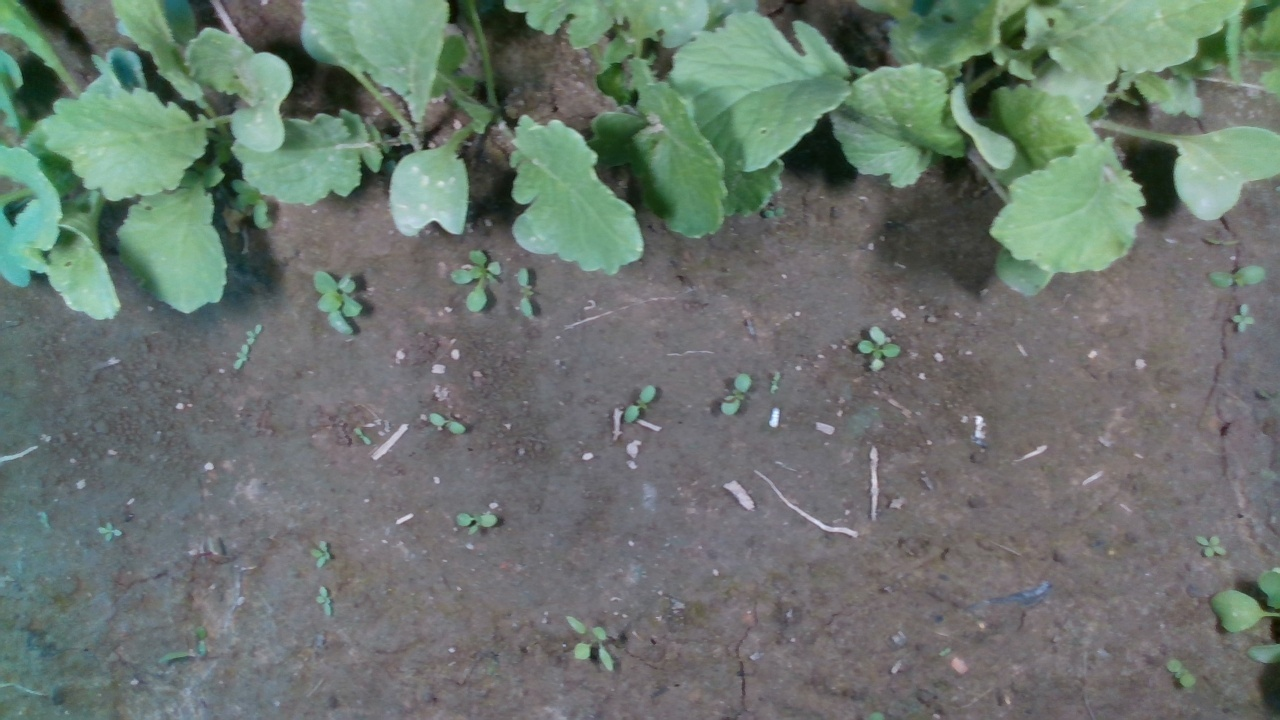weed: (311, 269, 366, 336), (449, 248, 502, 313), (564, 613, 616, 672), (854, 323, 901, 371), (1204, 263, 1267, 289), (718, 372, 751, 418), (622, 384, 655, 422), (454, 510, 498, 537), (514, 267, 534, 320), (1226, 301, 1258, 334), (1164, 658, 1196, 689), (1194, 532, 1230, 559), (426, 411, 466, 434), (310, 536, 332, 570), (314, 585, 333, 620), (1199, 236, 1245, 249), (95, 521, 123, 542), (233, 342, 248, 371), (246, 322, 263, 343)
